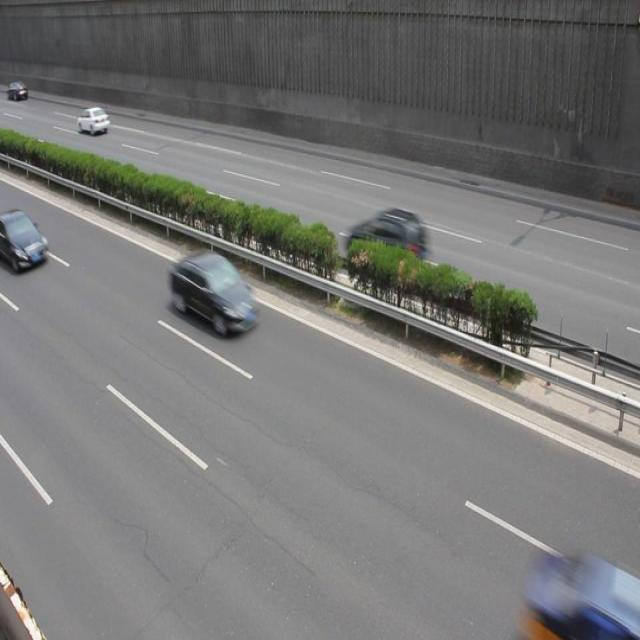car: (168, 246, 262, 336), (345, 205, 430, 281), (1, 208, 50, 272), (77, 105, 110, 136)
